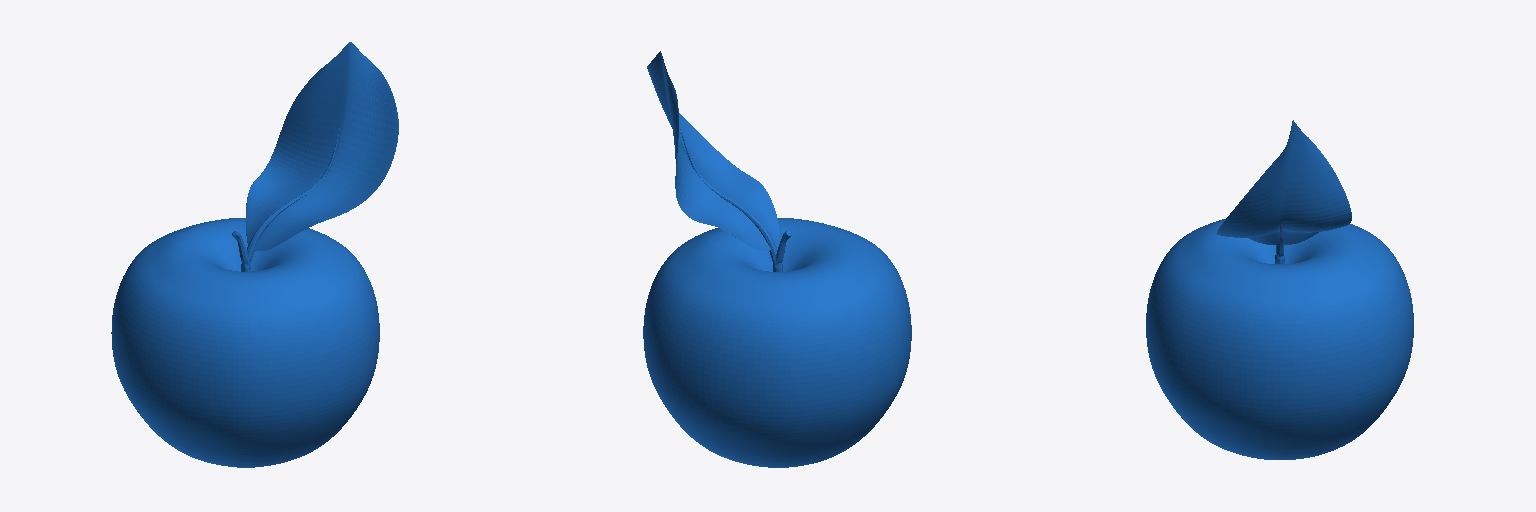
Rendered from apple.obj.
3 renders of one model, left to right at view 1: azimuth 30°, elevation 25°; view 2: azimuth 150°, elevation 25°; view 3: azimuth 270°, elevation 25°, orthographic.
Visible parts, largest first — view 1: Apple_apple.001, leaf_Plane.021, branch_Cube.009; view 2: Apple_apple.001, leaf_Plane.021, branch_Cube.009; view 3: Apple_apple.001, leaf_Plane.021.
Part boxes in pixels (left/top/right/bottom): Apple_apple.001: left=111, top=218, right=379, bottom=467; leaf_Plane.021: left=246, top=42, right=398, bottom=250; branch_Cube.009: left=232, top=127, right=339, bottom=271; Apple_apple.001: left=643, top=218, right=911, bottom=467; leaf_Plane.021: left=647, top=51, right=778, bottom=250; branch_Cube.009: left=680, top=129, right=791, bottom=271; Apple_apple.001: left=1146, top=219, right=1413, bottom=459; leaf_Plane.021: left=1217, top=120, right=1351, bottom=244.
Size of the model in its own units: 16.16 by 22.61 by 14.84.